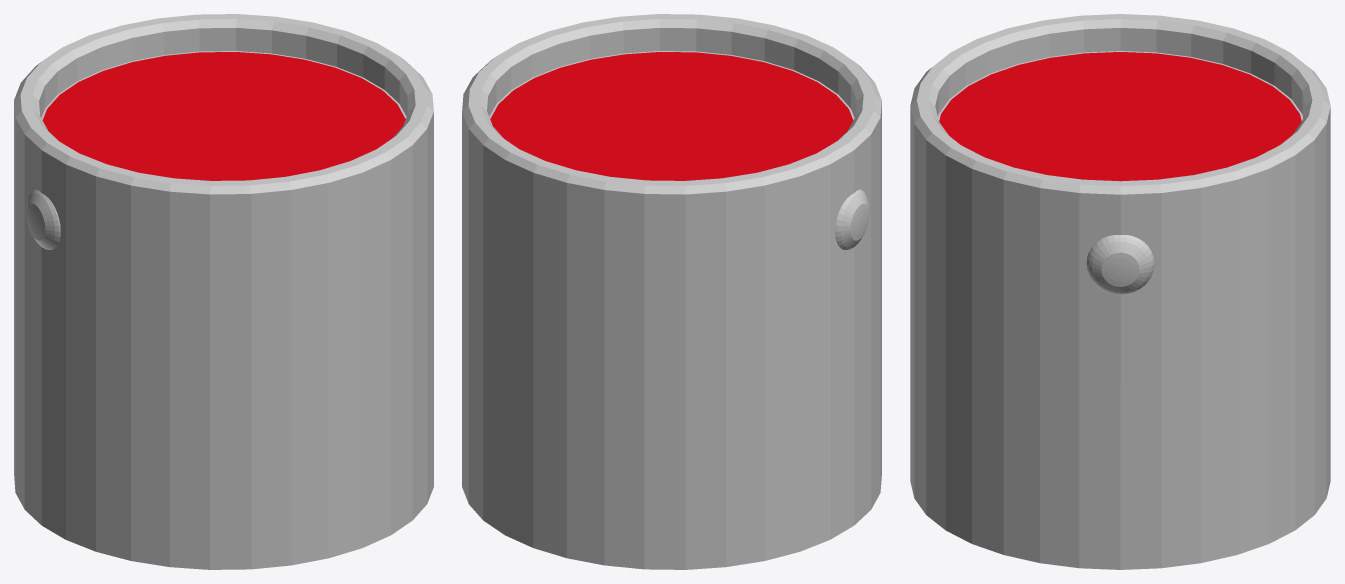
Rendered from bucket.fbx.
The picture shows the model from 3 angles, left to right: view 1: azimuth 30°, elevation 25°; view 2: azimuth 150°, elevation 25°; view 3: azimuth 270°, elevation 25°; orthographic projection.
Visible parts, largest first — view 1: Bucket; view 2: Bucket; view 3: Bucket.
Boxes of the visible parts, x1,y1,x2,y2 form: Bucket: (14,14,433,569); Bucket: (462,14,881,569); Bucket: (910,14,1330,569).
Size of the model in its own units: 542 by 517 by 517.
